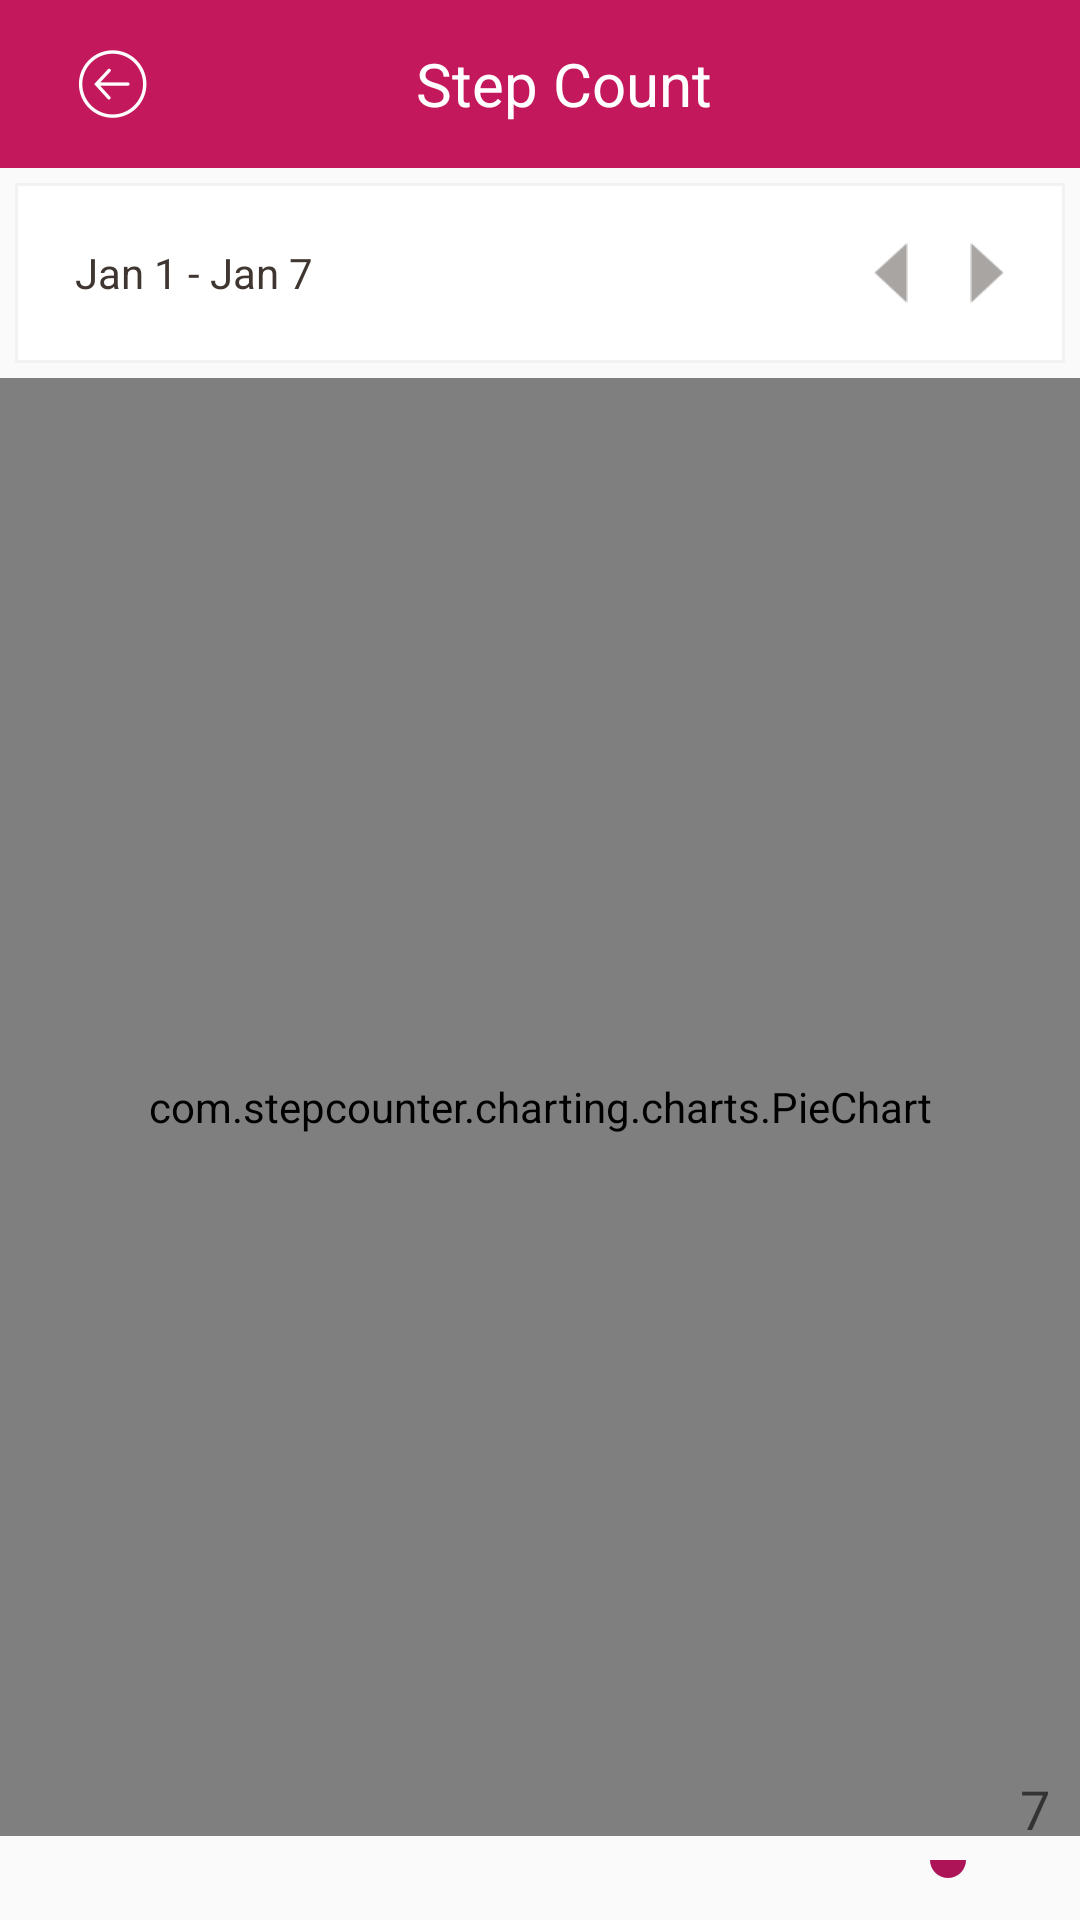

Where to tap for icons on this 1080×1920 app screen, as [x,y]:
back arrow: [113,84]
left arrow: [891,273]
right arrow: [986,273]
